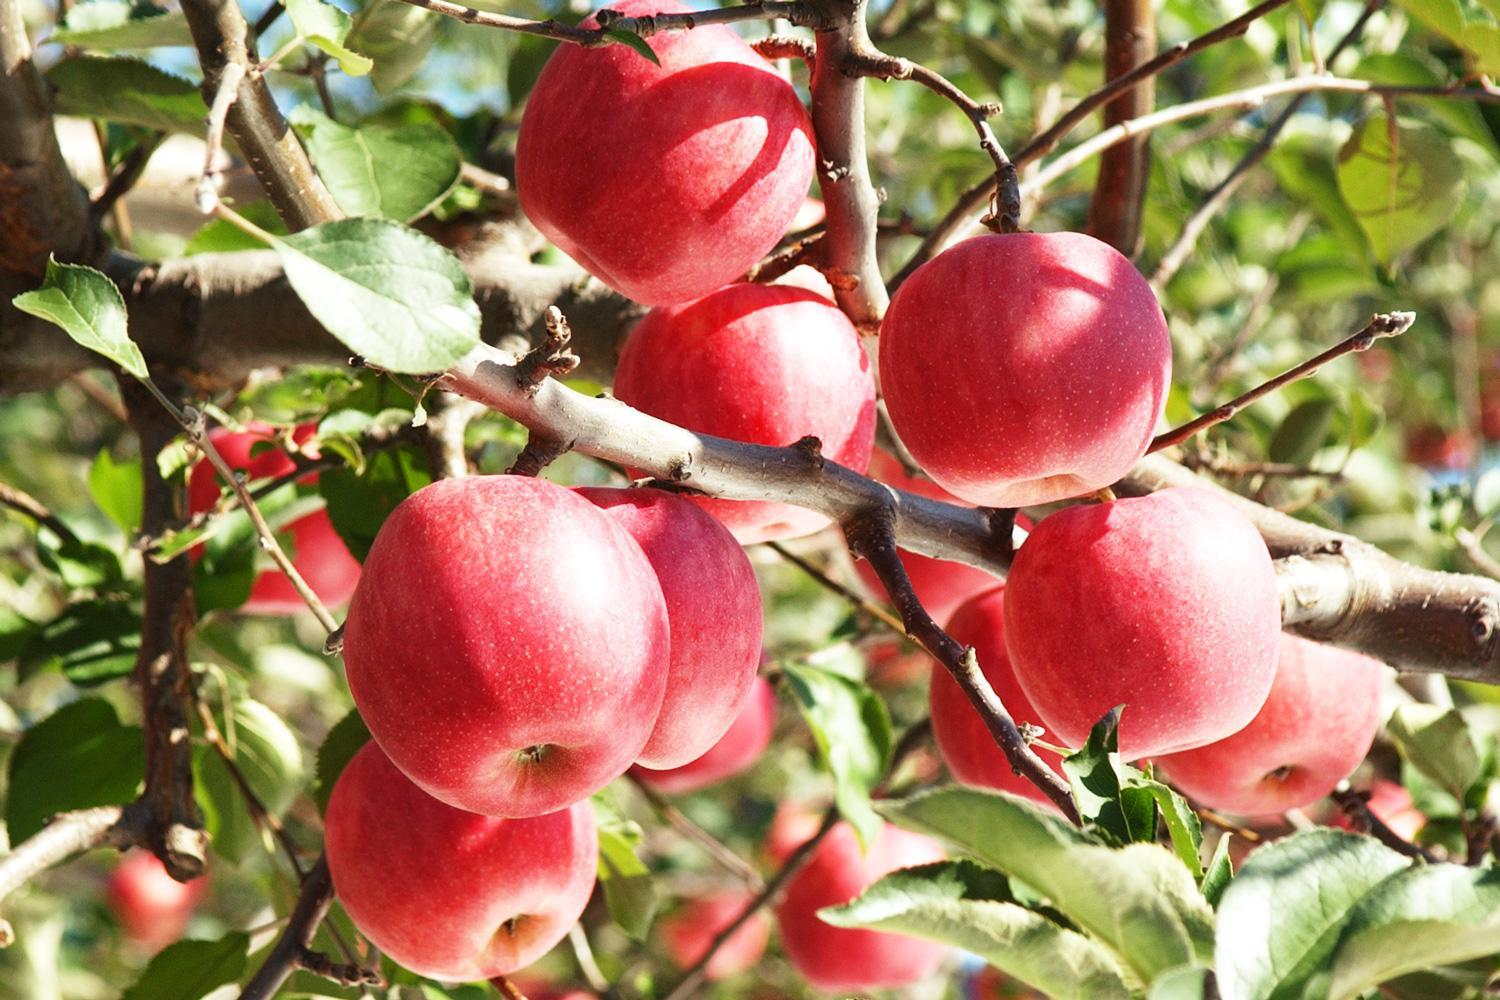apple: (345, 487, 690, 810), (507, 1, 811, 302), (871, 223, 1174, 509), (996, 485, 1281, 757), (610, 282, 879, 549), (317, 747, 600, 984), (576, 485, 766, 765), (1148, 633, 1391, 823), (187, 421, 368, 613)
